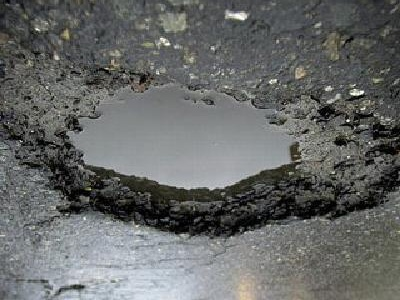pothole: (22, 72, 399, 243)
